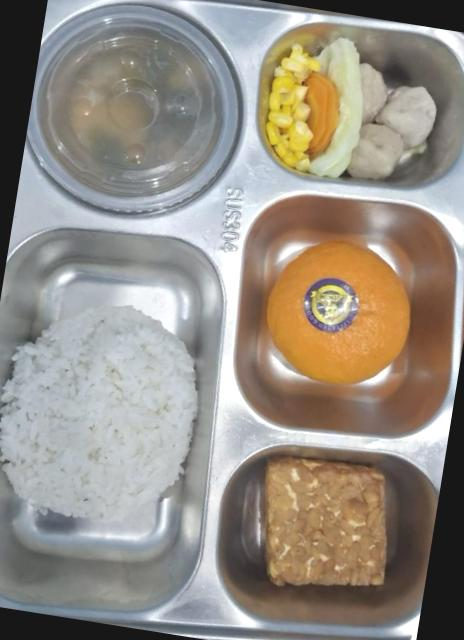bakso: (347, 66, 436, 180)
buah: (266, 241, 410, 384)
nasi: (0, 306, 198, 522)
sayur: (28, 5, 238, 208)
tempe: (265, 457, 386, 586)
